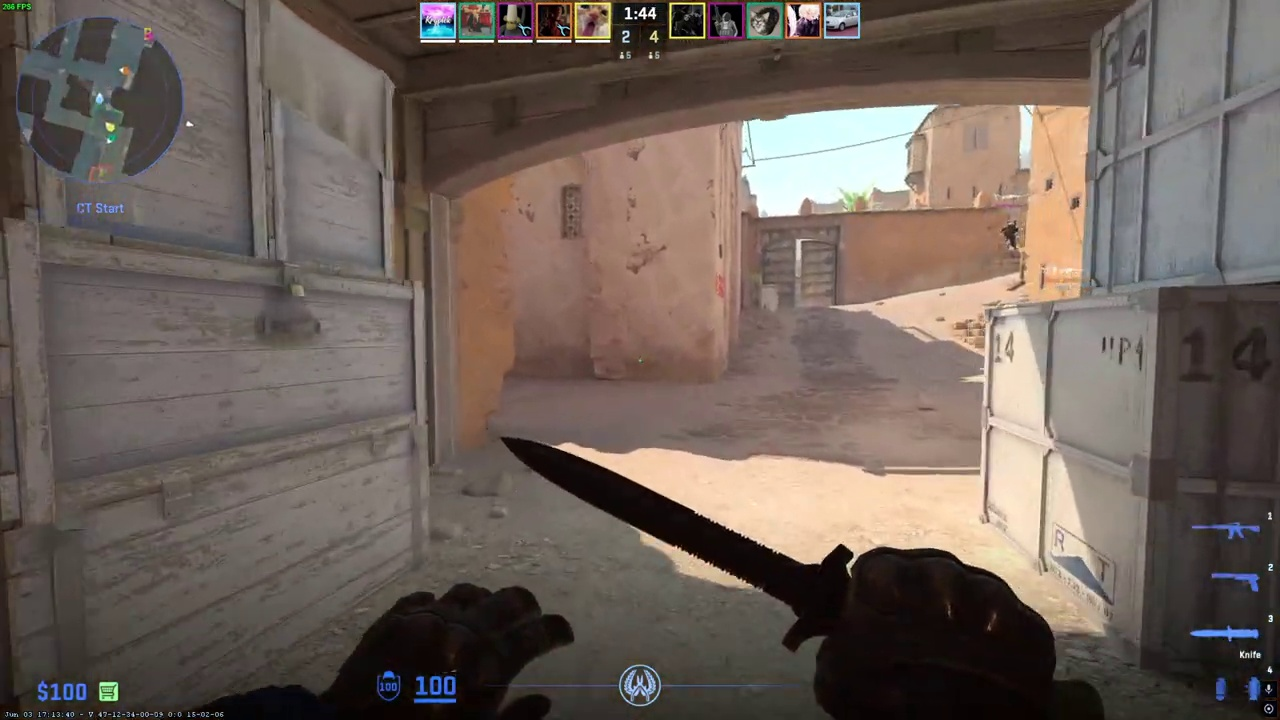CT: (1004, 220, 1018, 248)
